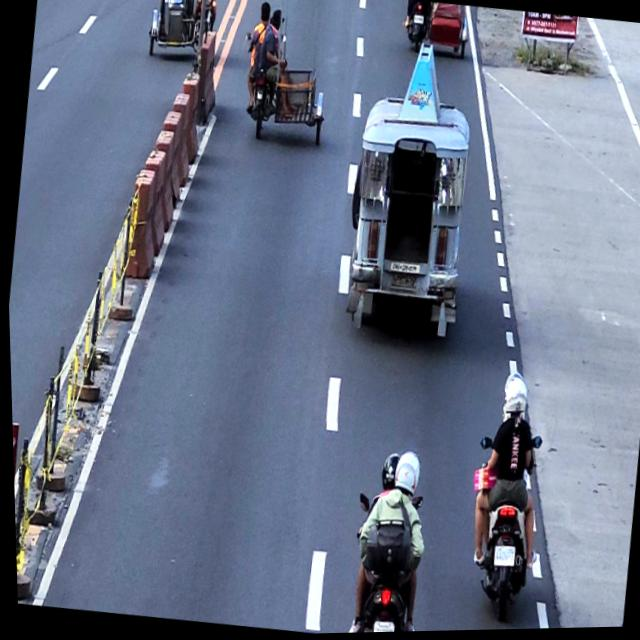Jeep: (325, 33, 488, 344)
License-Plate: (387, 270, 416, 294), (488, 547, 512, 569), (367, 621, 391, 634), (413, 15, 425, 26)
Motorcycle: (454, 431, 545, 628), (339, 489, 427, 634)
Tricycle: (230, 29, 335, 152), (144, 0, 227, 64), (400, 0, 473, 64)
